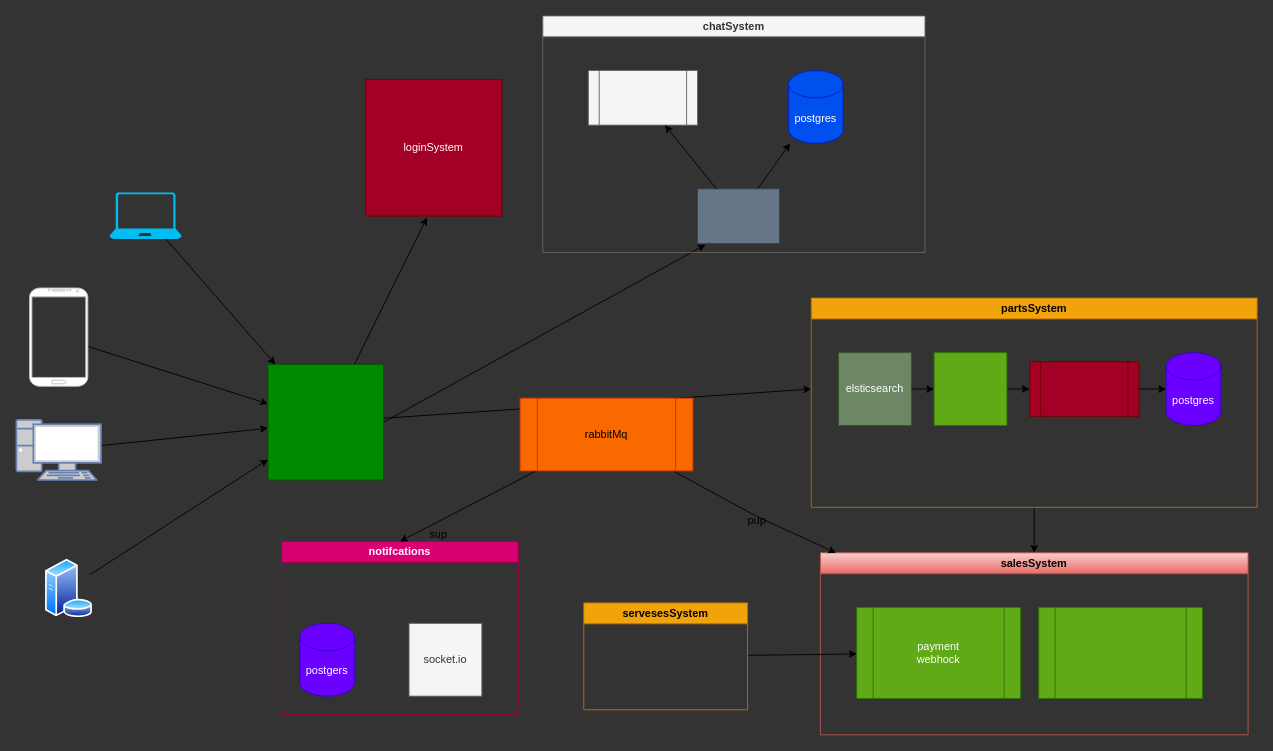
Image size: 1273x751. Some labels were removed from this diagram. Each missing label, with the box of its shape:
filtertion: (933, 352, 1007, 425)
inMomery: (697, 188, 779, 243)
NginX: (267, 364, 384, 480)
ridis: (1029, 361, 1139, 416)
shipping webhock: (1038, 607, 1203, 698)
socketIO: (587, 70, 698, 125)
